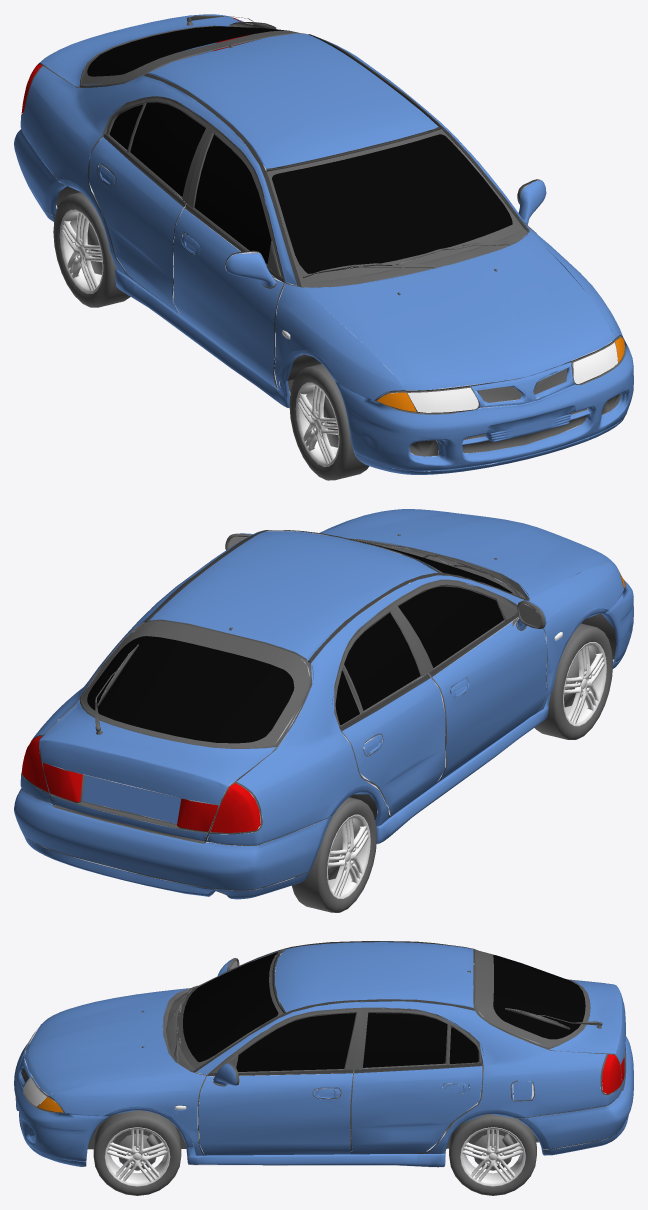
Rendered from gt_carisma_hi.glb.
The picture shows the model from 3 angles, top to bottom: view 1: azimuth 30°, elevation 25°; view 2: azimuth 150°, elevation 25°; view 3: azimuth 270°, elevation 25°; orthographic projection. The views are drawn at different scales.
Visible parts, largest first — view 1: Material3 (×9), Material2 (×2), WHEEL_RF_TIRE, WHEEL_RR_TIRE, WHEEL_RR_RIM, WHEEL_RF_RIM; view 2: Material3 (×7), Material2 (×3), WHEEL_RR_TIRE, WHEEL_RF_TIRE, WHEEL_RR_RIM, WHEEL_RF_RIM; view 3: Material3 (×8), Material2 (×3), WHEEL_LF_TIRE, WHEEL_LR_TIRE, WHEEL_LF_RIM, WHEEL_LR_RIM.
Boxes of the visible parts, bbox=[...] form: Material3 (×9): bbox=[14, 14, 633, 474]; Material2 (×2): bbox=[21, 19, 620, 463]; WHEEL_RF_TIRE: bbox=[289, 363, 369, 480]; WHEEL_RR_TIRE: bbox=[53, 192, 130, 307]; WHEEL_RR_RIM: bbox=[59, 209, 103, 293]; WHEEL_RF_RIM: bbox=[295, 382, 339, 466]; Material3 (×7): bbox=[14, 509, 633, 899]; Material2 (×3): bbox=[21, 530, 623, 895]; WHEEL_RR_TIRE: bbox=[292, 797, 376, 912]; WHEEL_RF_TIRE: bbox=[534, 623, 612, 739]; WHEEL_RR_RIM: bbox=[327, 814, 370, 899]; WHEEL_RF_RIM: bbox=[563, 642, 606, 726]; Material3 (×8): bbox=[14, 941, 633, 1170]; Material2 (×3): bbox=[21, 949, 626, 1181]; WHEEL_LF_TIRE: bbox=[93, 1110, 181, 1195]; WHEEL_LR_TIRE: bbox=[449, 1114, 536, 1195]; WHEEL_LF_RIM: bbox=[104, 1127, 170, 1186]; WHEEL_LR_RIM: bbox=[460, 1127, 525, 1186].
Size of the model in its own units: 1.99 by 1.45 by 4.45.
